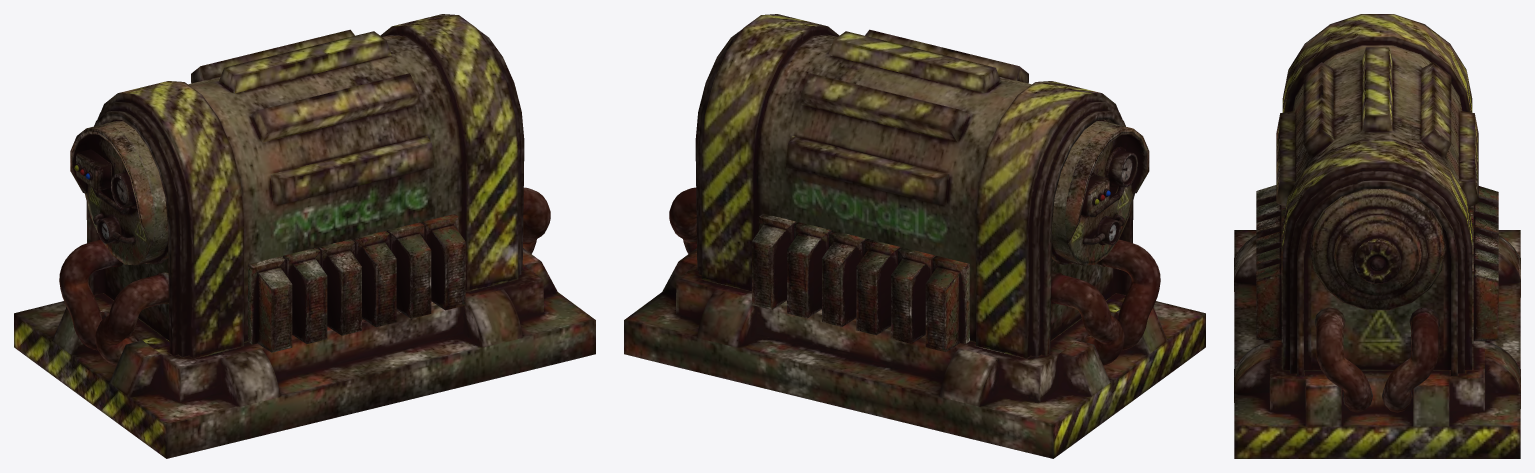
File: scene-turbine.glb
3 renders of one model, left to right at view 1: azimuth 30°, elevation 25°; view 2: azimuth 150°, elevation 25°; view 3: azimuth 270°, elevation 25°, orthographic. The views are drawn at different scales.
Parts seen in each view (by area): view 1: base; view 2: base; view 3: base.
Boxes of the visible parts, left/top/right/bottom form: base: left=14, top=14, right=595, bottom=458; base: left=624, top=14, right=1205, bottom=458; base: left=1234, top=14, right=1520, bottom=458.
Size of the model in its own units: 7.5 by 4.85 by 4.51.
Materials: 2 (2 with a texture image).
